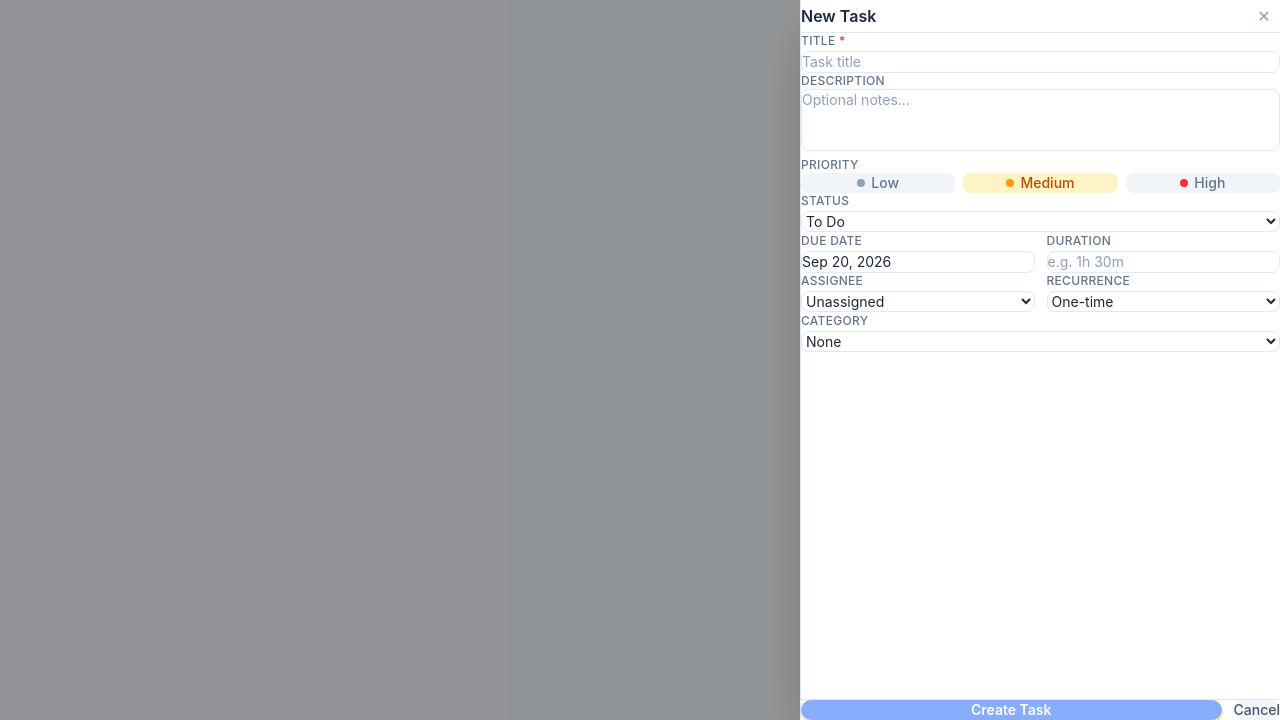
Scenario: TaskPanel — submit button › submit button is enabled once a title is typed
The width and height of the screenshot is (1280, 720).
Type "New task" into the field with placeholder "Task title" at x=1040, y=62, box [801,51,1279,73]
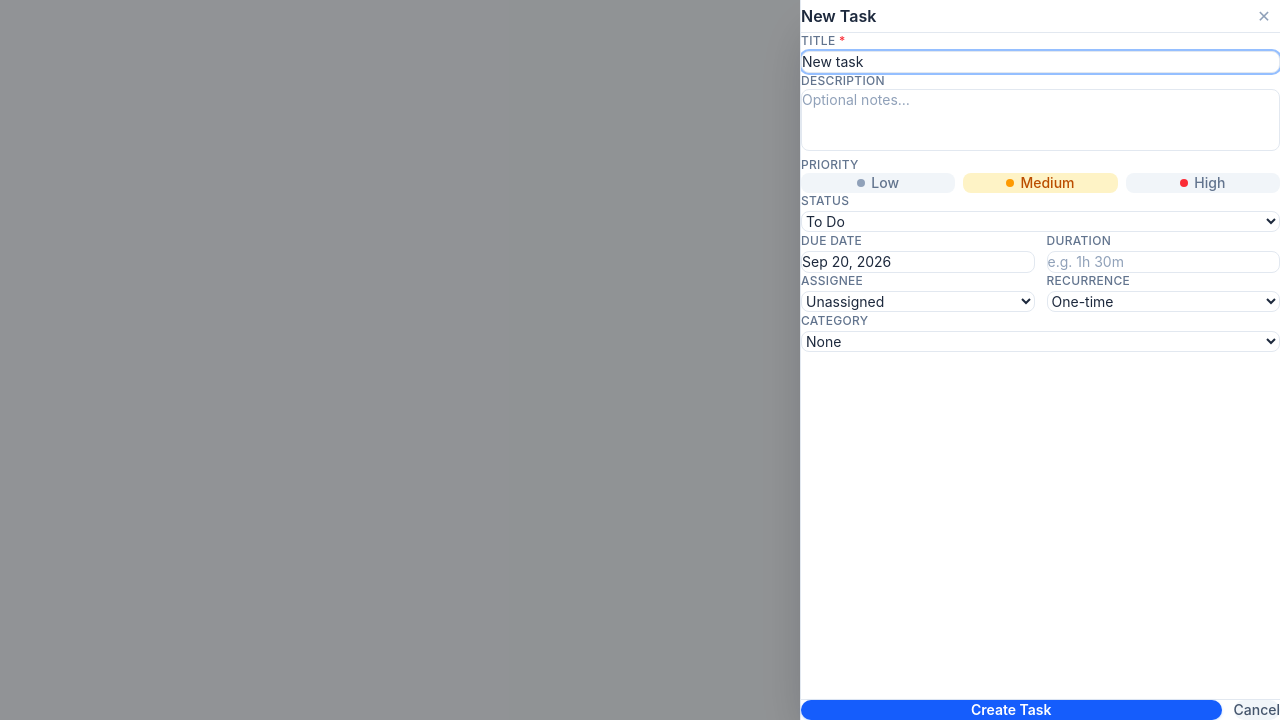
Expected: the button "Create Task" is enabled, [801,700,1222,719]
